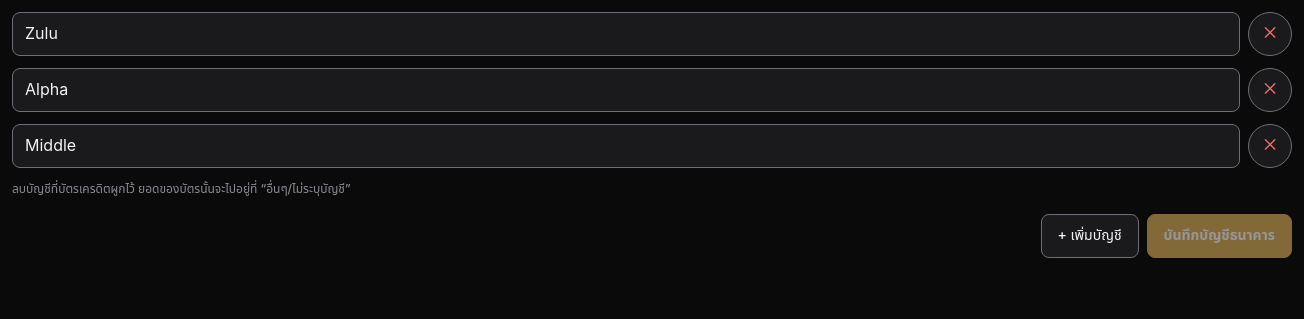
Test: bank manager treats names differing only by surrounding whitespace as duplicates
The image size is (1304, 319).
Replace the text in the field named "ชื่อบัญชี 2" with "Middle  ": (626, 90) [12,68,1240,112]
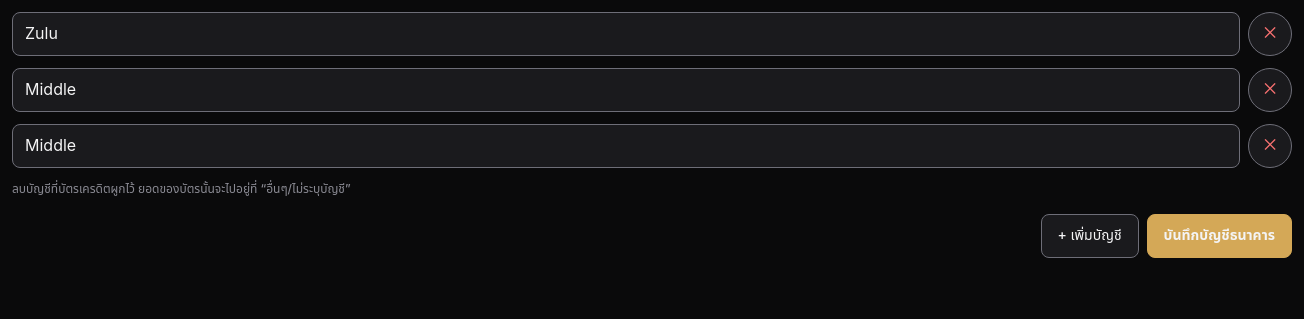
Click the button "บันทึกบัญชีธนาคาร": click(1219, 236) [1147,214,1292,258]
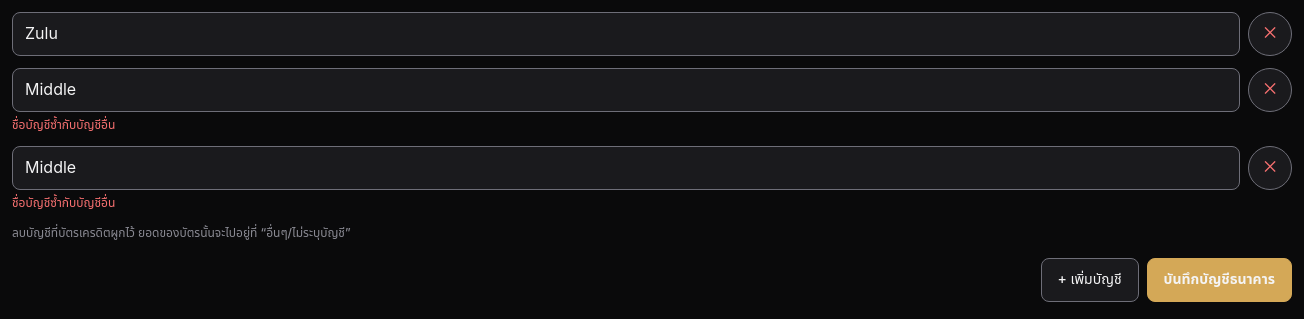
Expected: the text "ชื่อบัญชีซ้ำกับบัญชีอื่น" is shown 2 times, [12,116,115,134]; [12,194,115,212]
